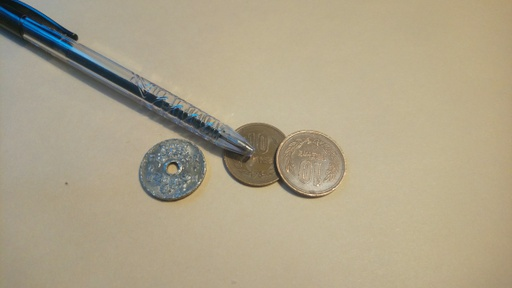10yen: (274, 130, 345, 198), (222, 122, 291, 187)
50yen: (139, 138, 206, 201)
